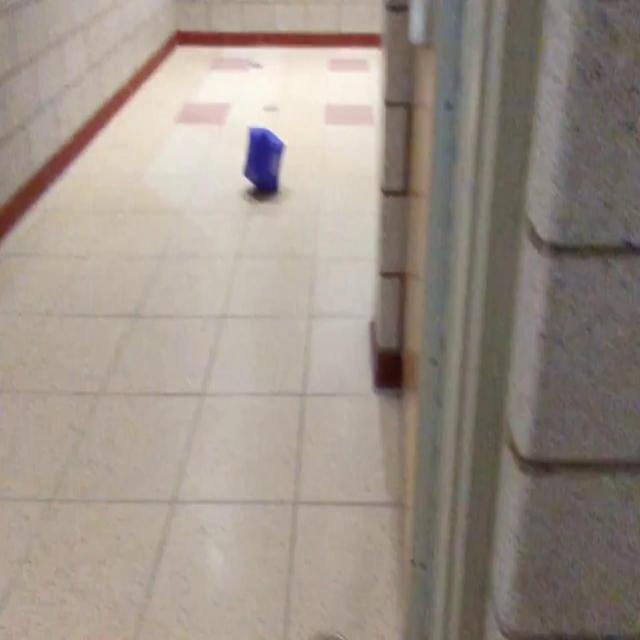frc_cube: (242, 124, 286, 194)
